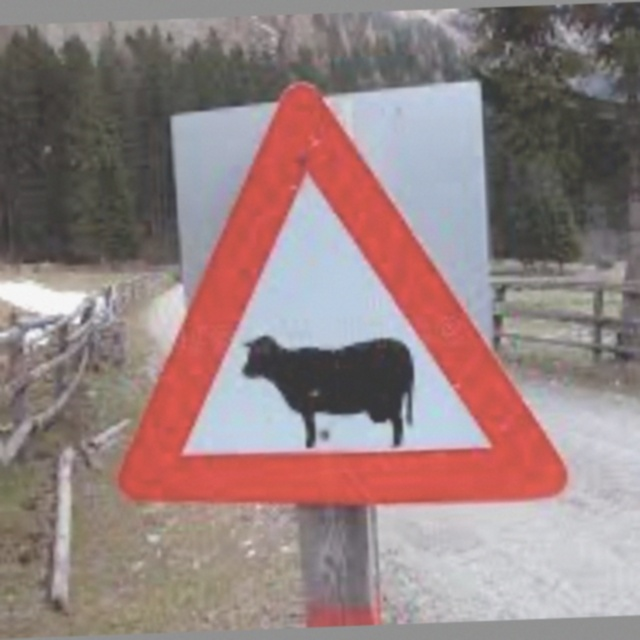Cattle: (136, 96, 550, 515)
